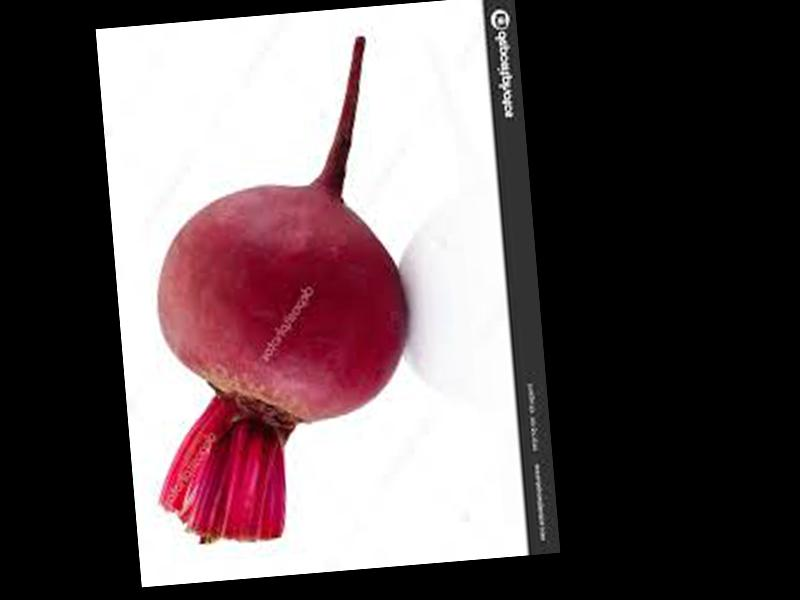Beet: (125, 35, 425, 549)
